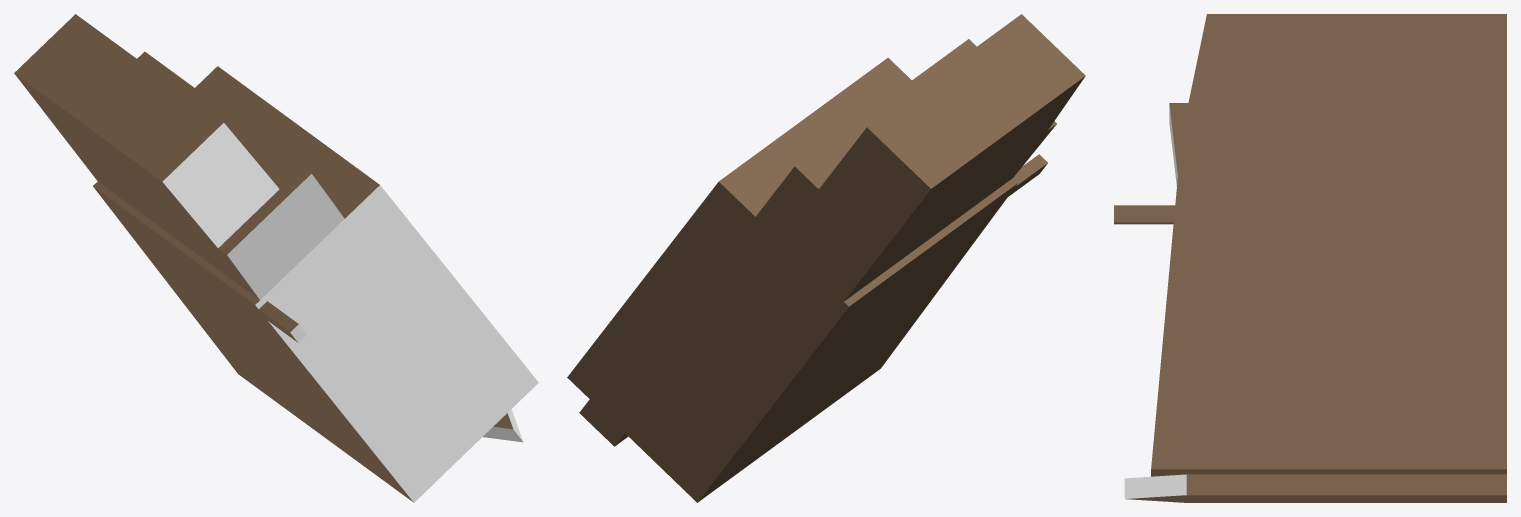
3 renders of one model, left to right at view 1: azimuth 30°, elevation 25°; view 2: azimuth 150°, elevation 25°; view 3: azimuth 270°, elevation 25°, orthographic. The views are drawn at different scales.
Visible parts, largest first — view 1: City_1884456; view 2: City_1884456; view 3: City_1884456.
Part boxes in pixels (x1,y1,x2,y2): City_1884456: [14, 14, 538, 502]; City_1884456: [567, 14, 1085, 502]; City_1884456: [1114, 14, 1506, 502].
Size of the model in its own units: 1618 by 1772 by 1560.
